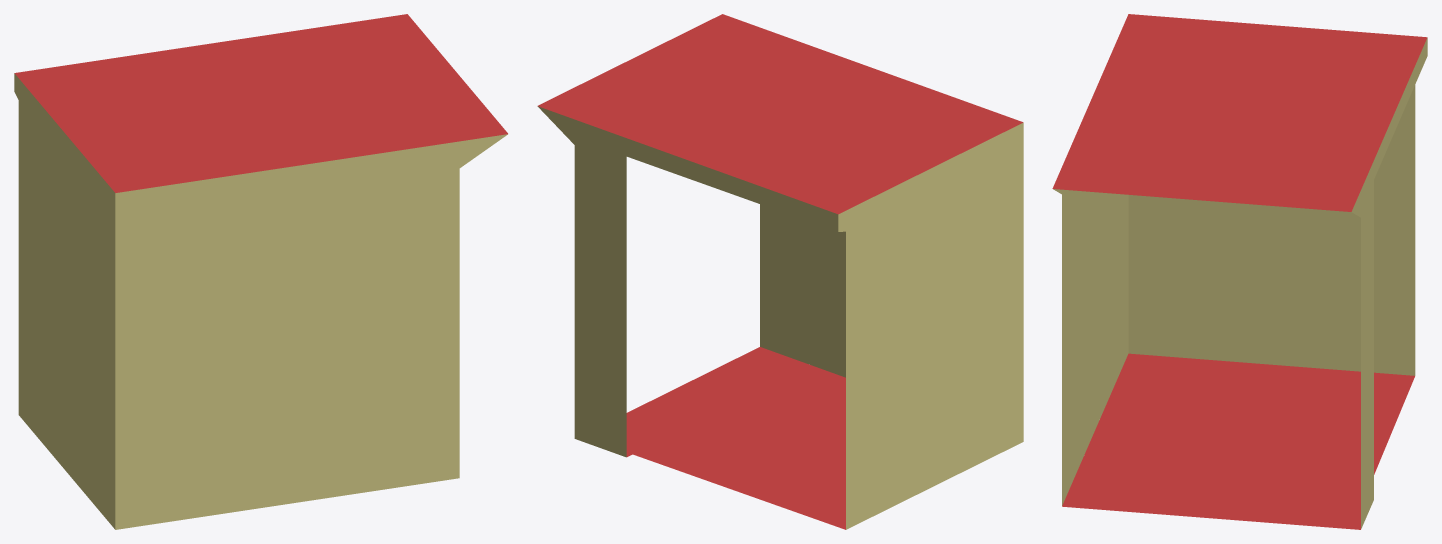
3 views of the same model, side by side, from view 1: azimuth 30°, elevation 25°; view 2: azimuth 150°, elevation 25°; view 3: azimuth 270°, elevation 25° (orthographic). The views are drawn at different scales.
Visible parts, largest first — view 1: group_4, group_3; view 2: group_4, group_3, group_5; view 3: group_4, group_3, group_5.
Boxes of the visible parts, x1=… form: group_4: x1=14, y1=73, x2=507, y2=529; group_3: x1=14, y1=14, x2=507, y2=192; group_4: x1=537, y1=106, x2=1023, y2=529; group_3: x1=538, y1=14, x2=1023, y2=214; group_5: x1=626, y1=347, x2=845, y2=529; group_4: x1=1053, y1=37, x2=1427, y2=528; group_3: x1=1052, y1=14, x2=1427, y2=211; group_5: x1=1062, y1=353, x2=1414, y2=529.
Bounding box in the file's own units: 15.29 × 12.24 × 12.22.
